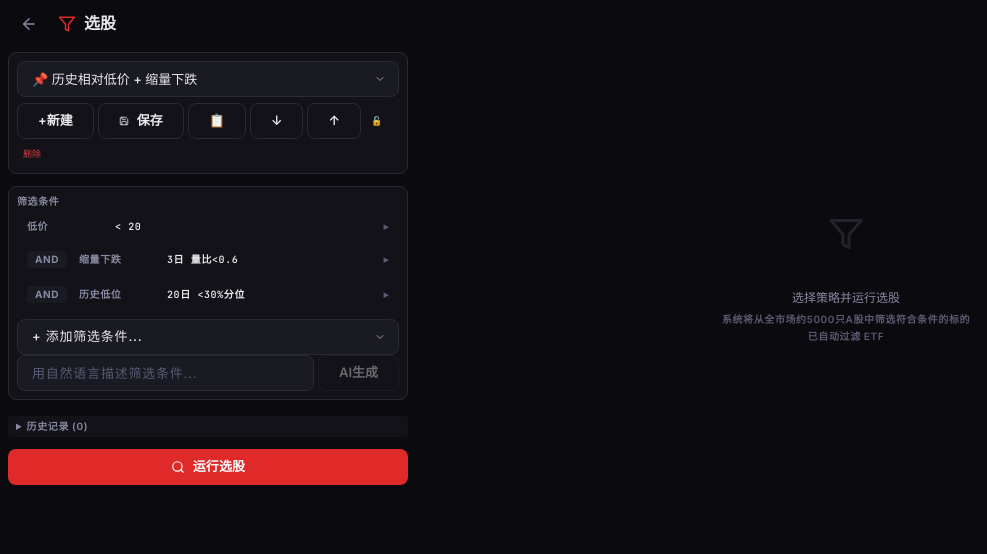
Test: ScreenerPage › removes a condition
Click the text "低价" at (38,226), box [27,220,48,232]
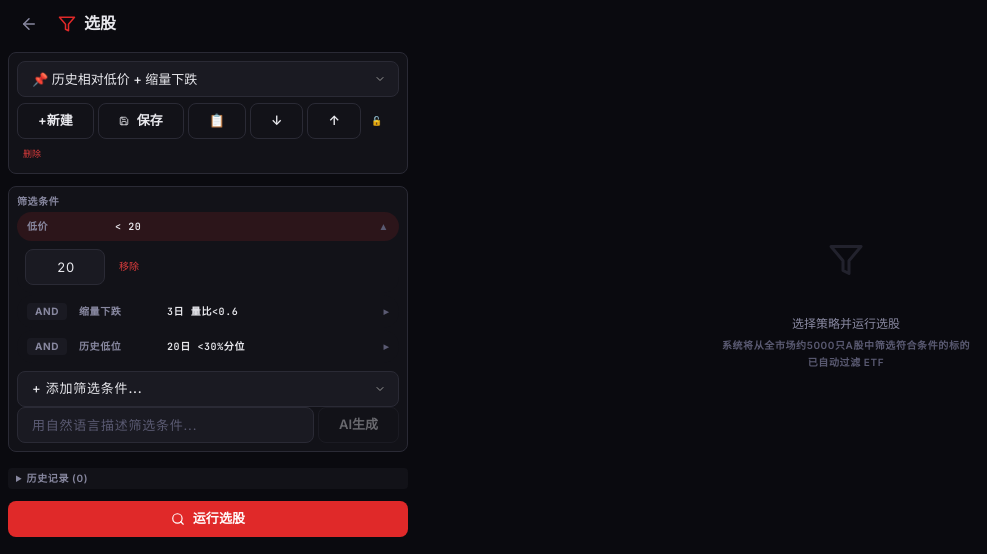
Click the button "移除" at (129,266), box [113,257,145,276]
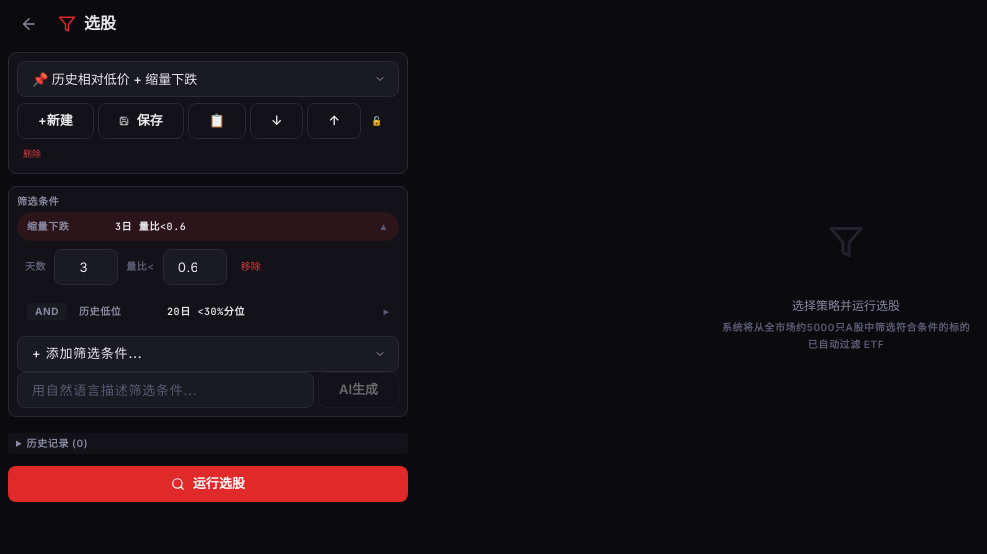
Expected: the text "缩量下跌" is shown, [27,220,69,232]
Expected: the text "历史低位" is shown, [79,304,121,316]
